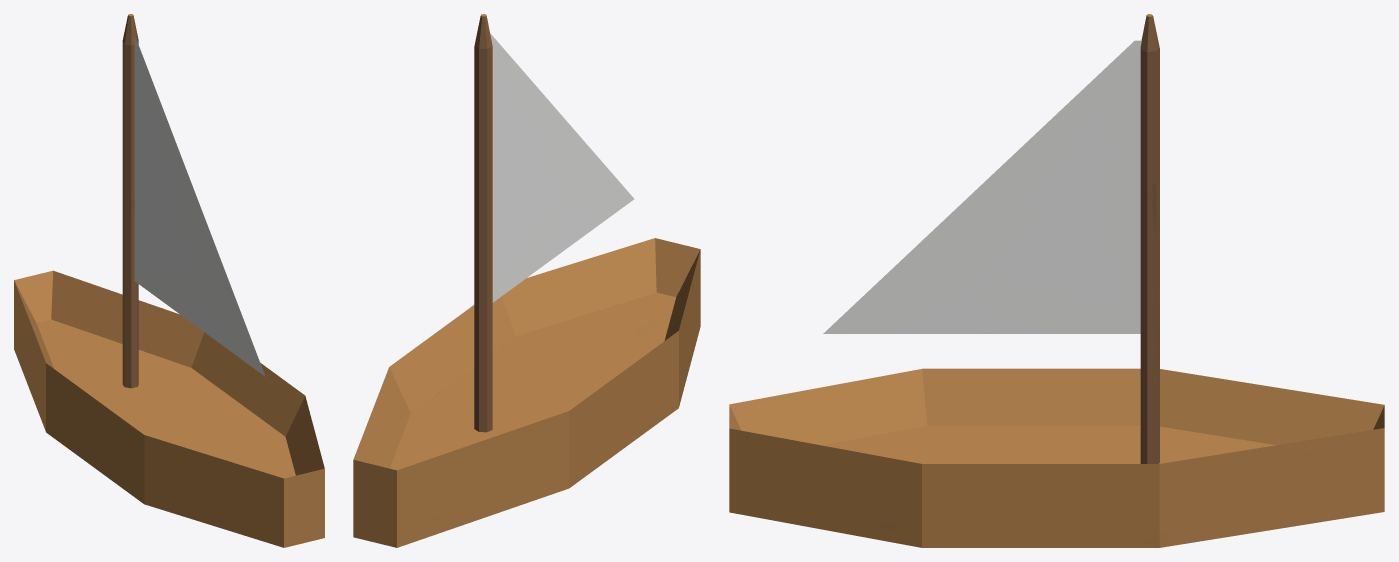
Rendered from Sailboat.glb.
3 renders of one model, left to right at view 1: azimuth 30°, elevation 25°; view 2: azimuth 150°, elevation 25°; view 3: azimuth 270°, elevation 25°, orthographic. The views are drawn at different scales.
Parts seen in each view (by area): view 1: Cube; view 2: Cube; view 3: Cube.
Part boxes in pixels (x1=…): Cube: x1=14, y1=14, x2=324, y2=547; Cube: x1=353, y1=14, x2=700, y2=547; Cube: x1=729, y1=14, x2=1384, y2=547.
Bounding box in the file's own units: 2 × 4.75 × 5.82.
1 material, 1 textured.
